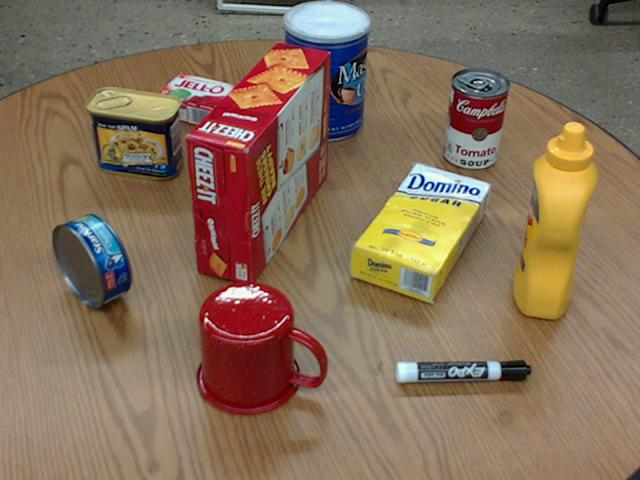cracker_box: (186, 42, 328, 285)
gelatin_box: (151, 71, 238, 126)
large_marker: (396, 360, 530, 383)
master_chef_can: (283, 0, 368, 140)
mug: (196, 281, 324, 414)
mustard_bottle: (514, 123, 597, 318)
potted_meat_can: (86, 85, 181, 177)
sugar_box: (349, 165, 490, 300)
tomato_soup_can: (443, 68, 509, 169)
tuna_fish_can: (52, 214, 132, 307)
